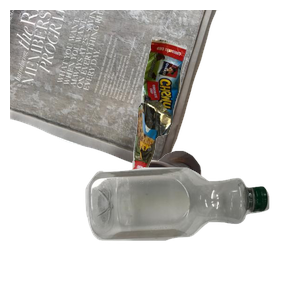glass: (90, 148, 300, 300)
paper: (10, 10, 222, 176)
plastic: (83, 165, 300, 300)
trash: (130, 34, 300, 203)
